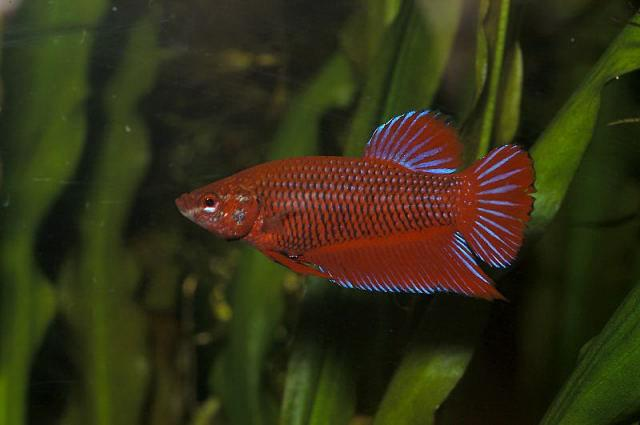Mulut: (160, 184, 206, 228)
Sirip Anal: (292, 220, 516, 316)
Sirip Dada: (250, 192, 326, 246)
Sirip Ekor: (452, 132, 542, 278)
Sirip Perut: (255, 245, 338, 291)
Sirip Punggung: (356, 98, 466, 190)
